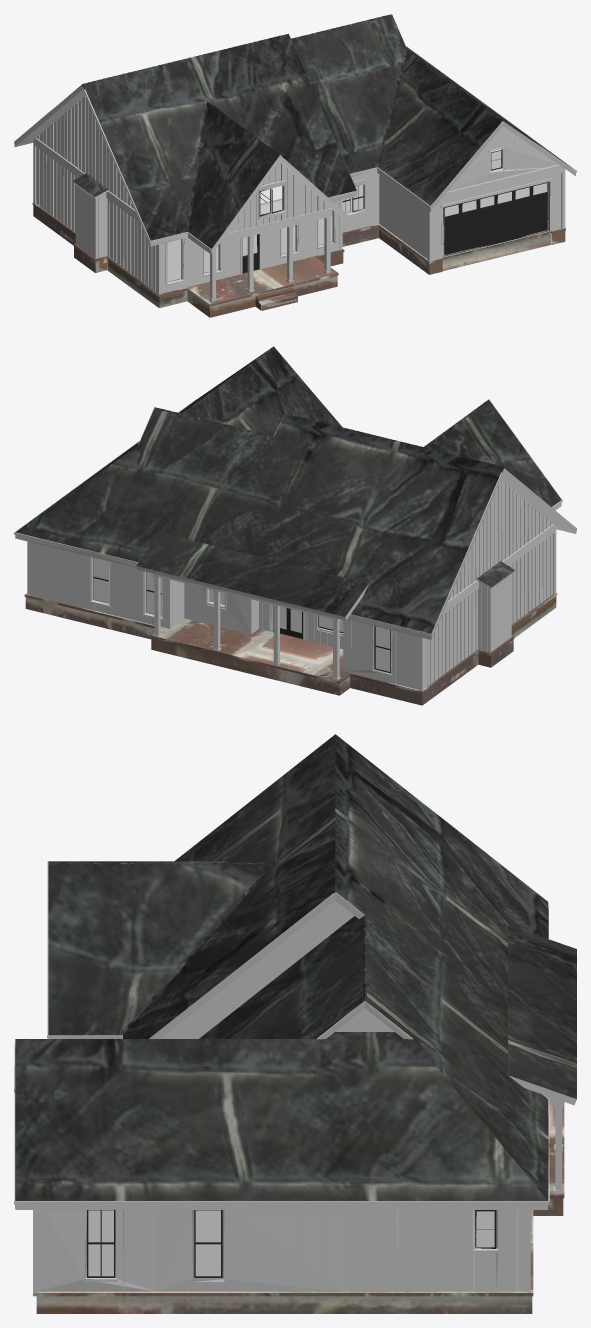
File: v_amer.glb
3 views of the same model, one above another, from view 1: azimuth 30°, elevation 25°; view 2: azimuth 150°, elevation 25°; view 3: azimuth 270°, elevation 25° (orthographic). The views are drawn at different scales.
Size of the model in its own units: 19.49 by 8.64 by 15.47.
19 materials, 14 textured.
